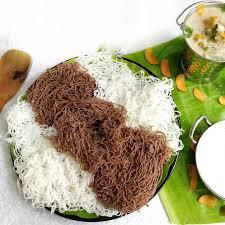String Hoppers: (5, 45, 174, 205)
